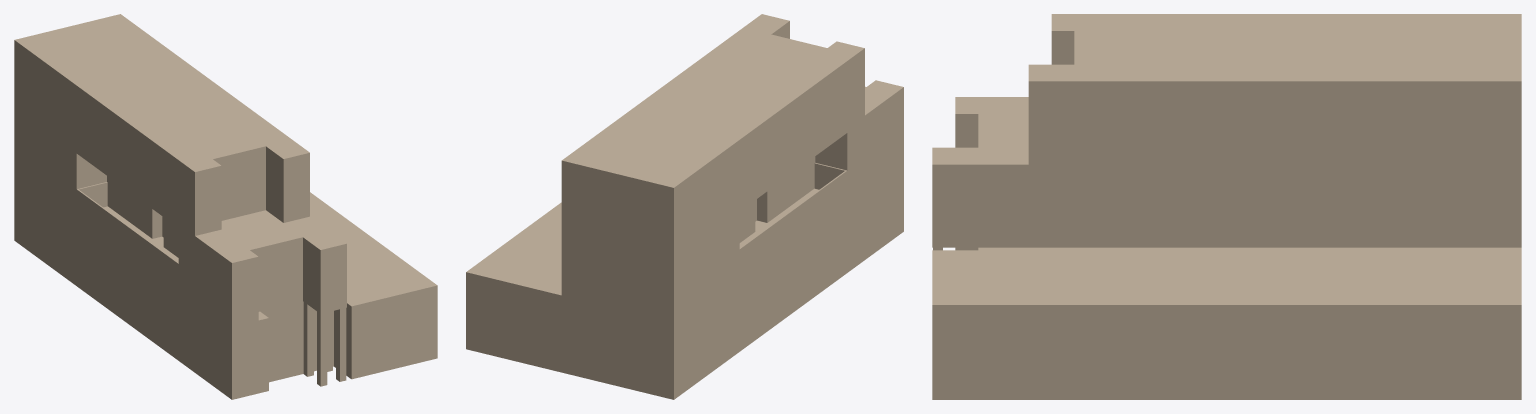
File: massing.glb
3 views of the same model, side by side, from view 1: azimuth 30°, elevation 25°; view 2: azimuth 150°, elevation 25°; view 3: azimuth 270°, elevation 25° (orthographic). The views are drawn at different scales.
Parts seen in each view (by area): view 1: building/exterior; view 2: building/exterior; view 3: building/exterior.
Part boxes in pixels (<box>): building/exterior: <box>14,14,437,399</box>; building/exterior: <box>466,14,903,399</box>; building/exterior: <box>932,14,1521,399</box>.
Bounding box in the file's own units: 9.03 × 8.8 × 18.
